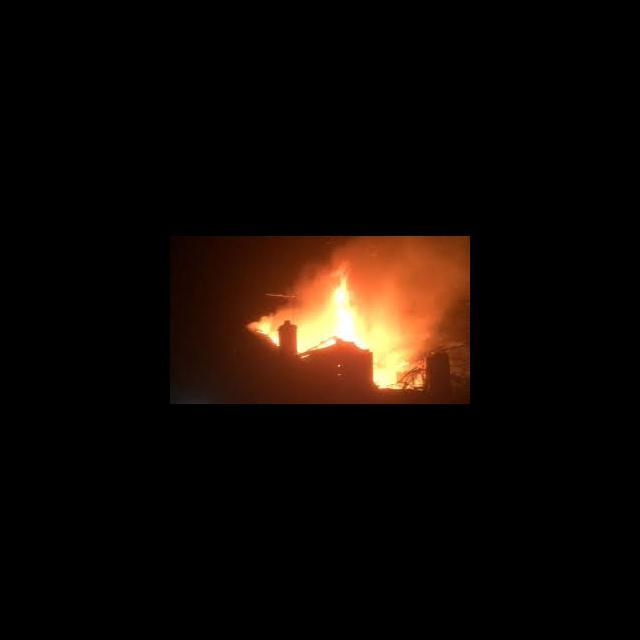Fire: (254, 280, 413, 392)
Smoke: (372, 236, 470, 281), (414, 280, 469, 355)
